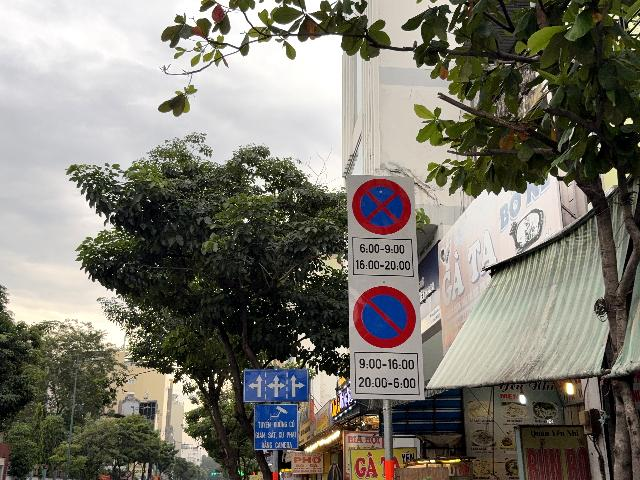cam-do-xe: (353, 285, 416, 350)
cam-dung-va-do-xe: (352, 178, 411, 235)
